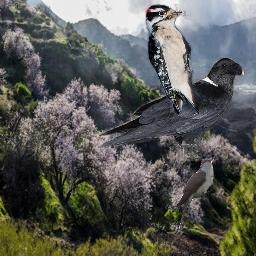Crow: (95, 57, 248, 166)
Cuckoo: (175, 158, 214, 233)
Woodpecker: (145, 4, 199, 116)
